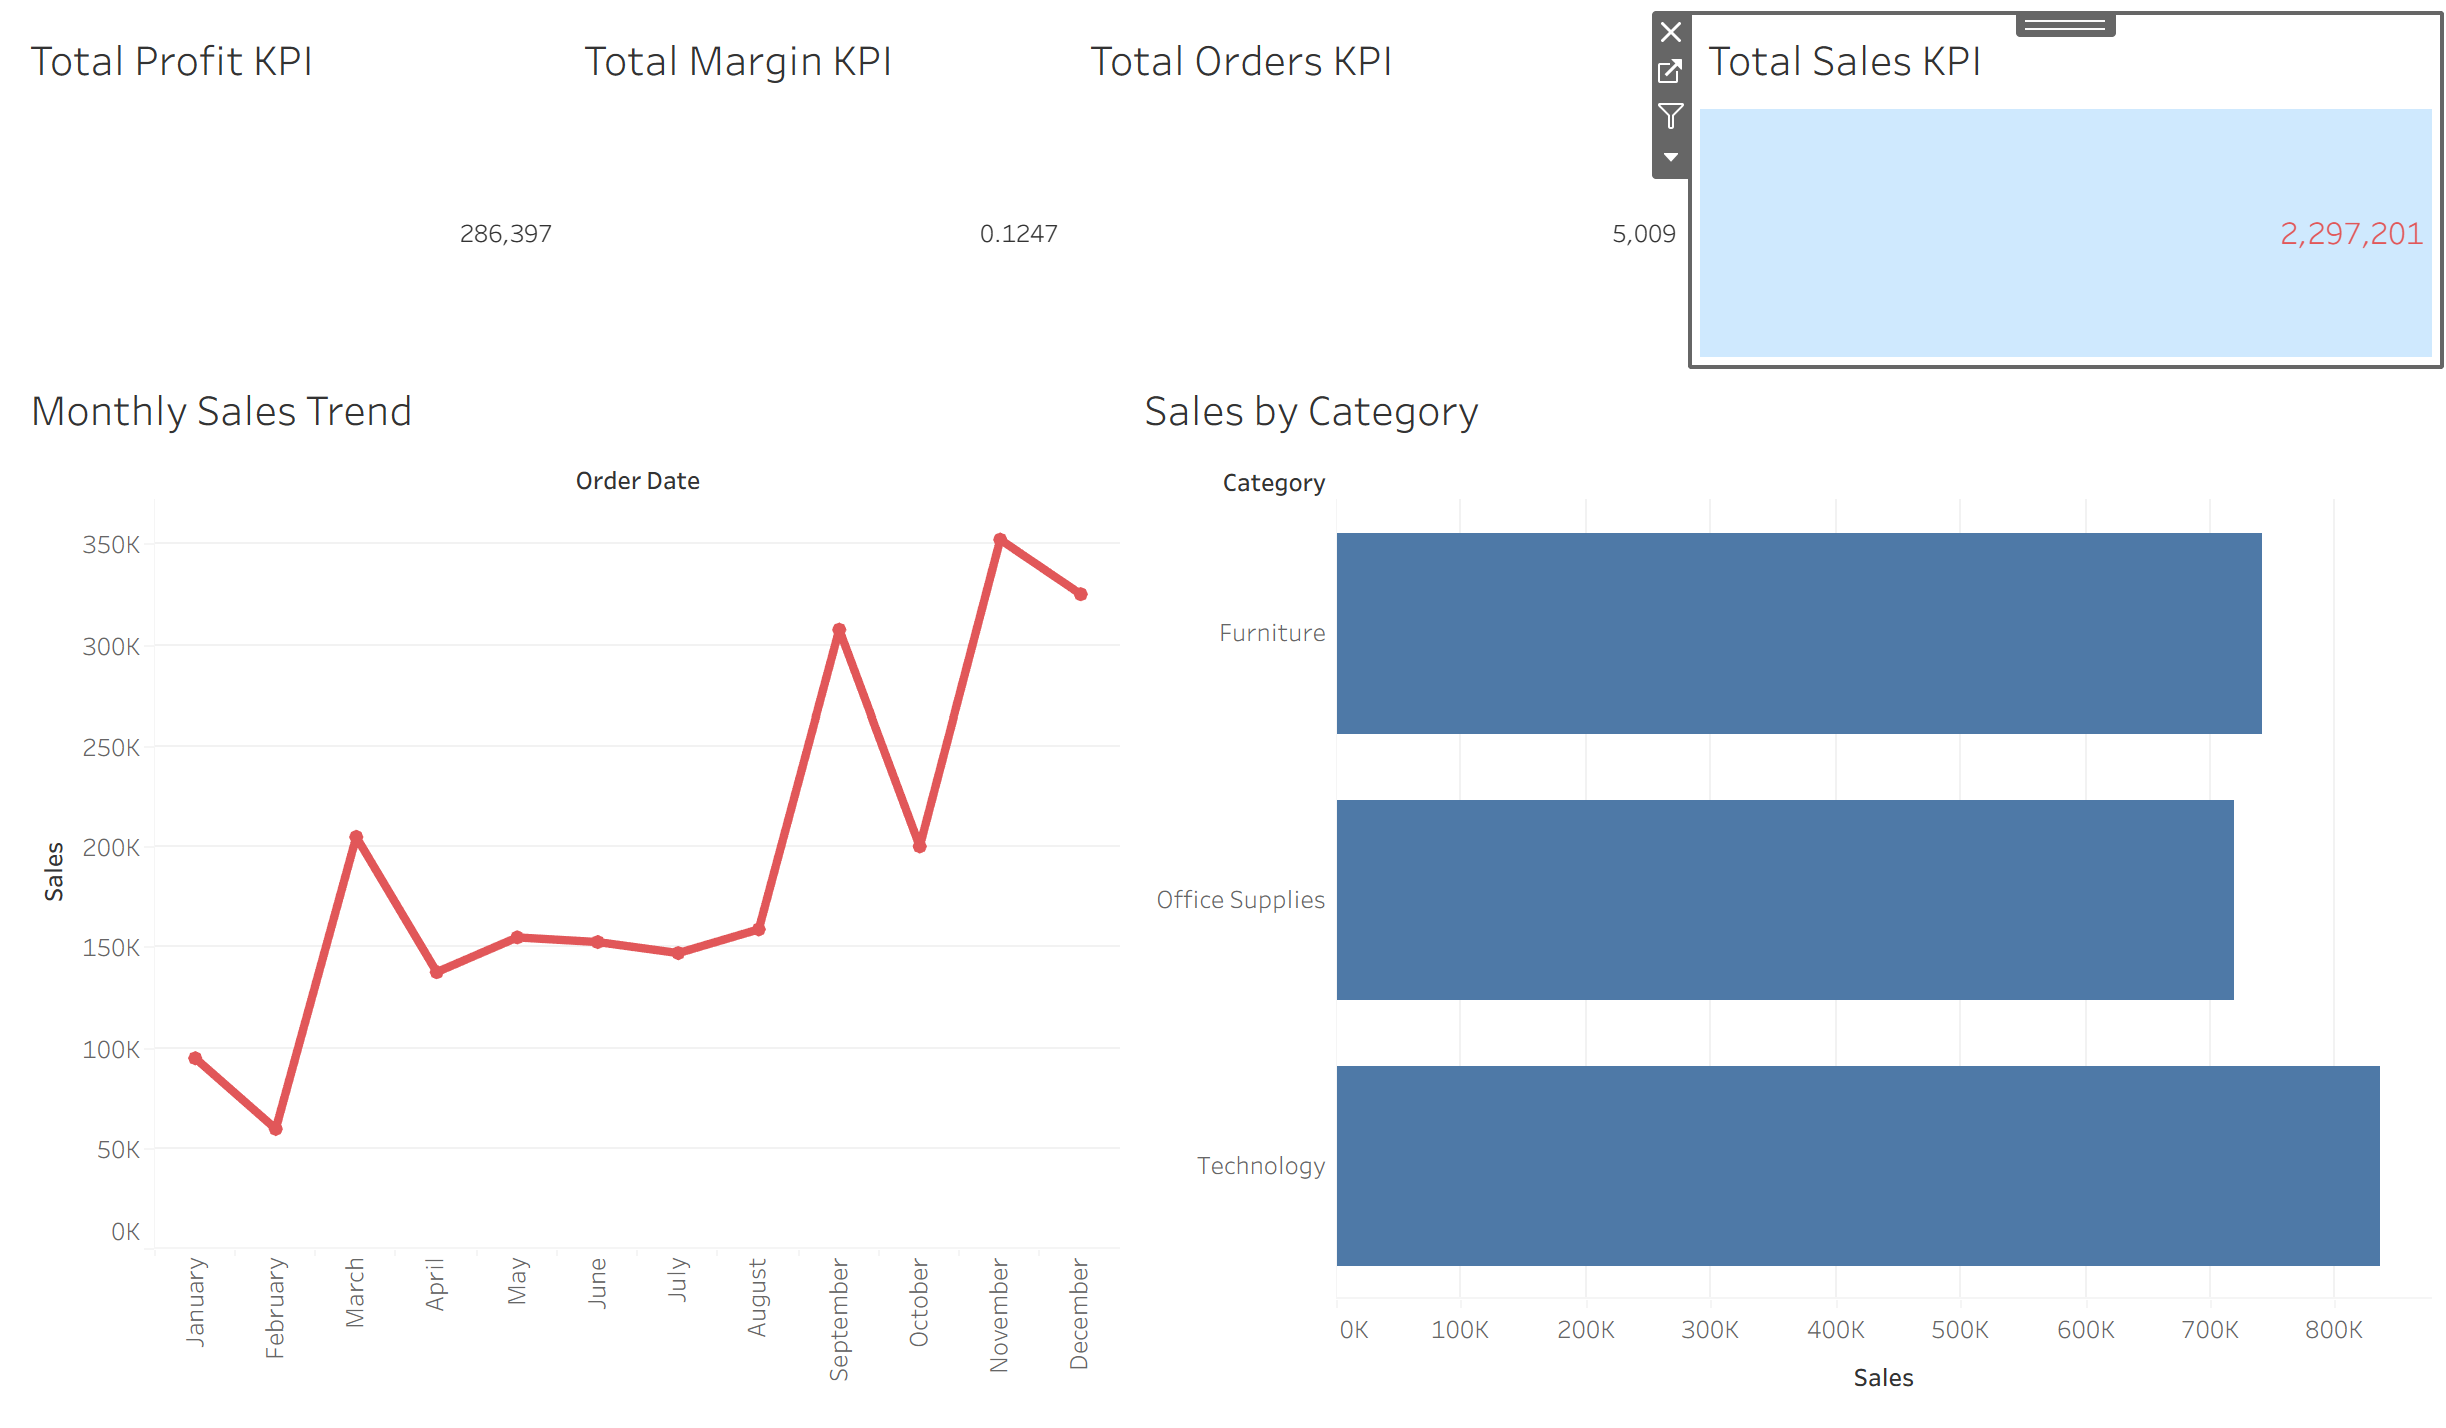

Layout of this report page (visuals, bound fields, positions):
{"tool":"tableau","page":{"name":"Dashboard 1","canvas":[1000,1000],"units":"permille","ordinal":0},"visuals":[{"type":"worksheet","title":"Total Profit KPI","mark":"Text","box":[6.5,11.2,225.4,244.4]},{"type":"worksheet","title":"Total Margin KPI","mark":"Automatic","box":[231.9,11.2,205.8,244.4]},{"type":"worksheet","title":"Total Orders KPI","mark":"Automatic","box":[437.8,11.2,251.4,244.4]},{"type":"worksheet","title":"Total Sales KPI","mark":"Automatic","box":[689.2,11.2,304.3,244.4]},{"type":"worksheet","title":"Monthly Sales Trend","mark":"Automatic","rows":["Sales"],"cols":["Order Date"],"box":[6.5,255.6,453.2,733.2]},{"type":"worksheet","title":"Sales by Category","mark":"Automatic","rows":["Category"],"cols":["Sales"],"box":[459.7,255.6,533.8,733.2]}]}

Visuals, with their boxes on the dashboard's canvas, which has no fixed pixel size, in thousandths of its width and height (x1, y1, x2, y2). These are canvas units, not pixel positions in the 2446x1428 screenshot, which may show the page scaled, cropped or inside an application window:
"Total Profit KPI" worksheet (Text marks): {"left": 6, "top": 11, "right": 232, "bottom": 256}
"Total Margin KPI" worksheet: {"left": 232, "top": 11, "right": 438, "bottom": 256}
"Total Orders KPI" worksheet: {"left": 438, "top": 11, "right": 689, "bottom": 256}
"Total Sales KPI" worksheet: {"left": 689, "top": 11, "right": 994, "bottom": 256}
"Monthly Sales Trend" worksheet: {"left": 6, "top": 256, "right": 460, "bottom": 989}
"Sales by Category" worksheet: {"left": 460, "top": 256, "right": 994, "bottom": 989}
